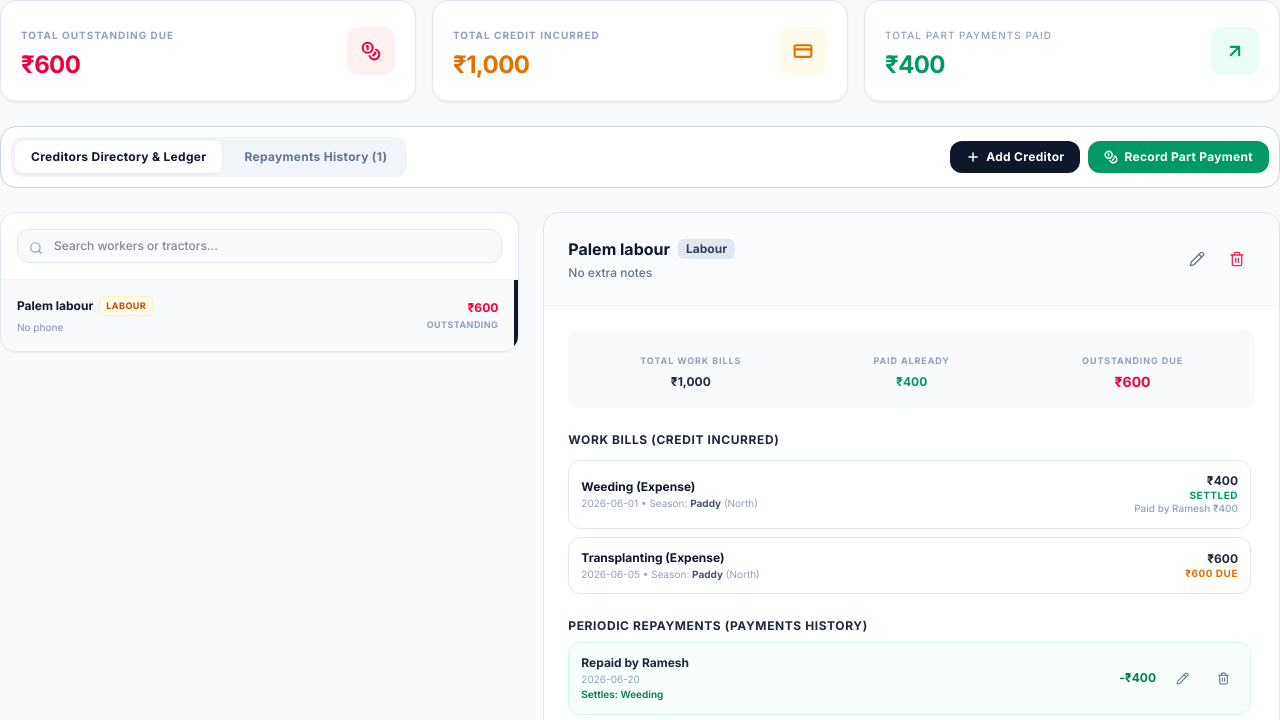
Credits tab: choosing which bills a payment settles › stops offering a bill once it is settled
The image size is (1280, 720).
Click the button "Record Part Payment". click: click(1179, 157)
box: [1088,141,1269,173]
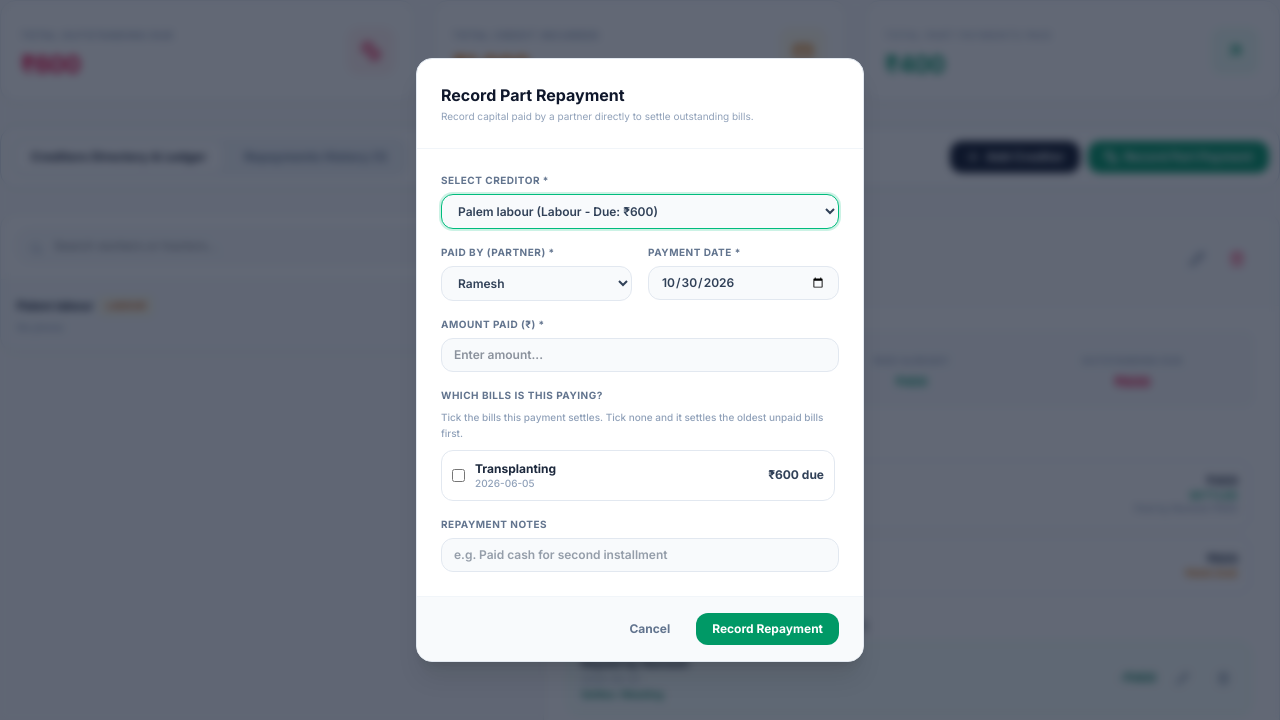
Result: the checkbox labelled "Transplanting 2026-06-05 ₹600 due" is shown at [452,469,465,482]
